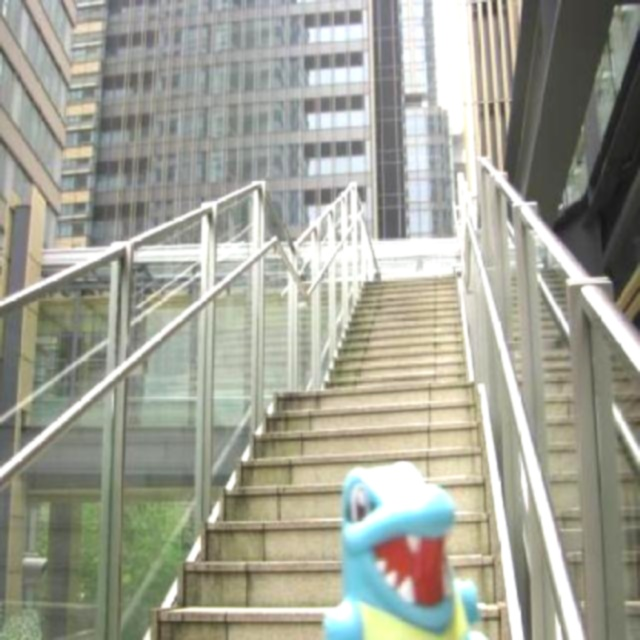stair: (146, 261, 640, 638)
